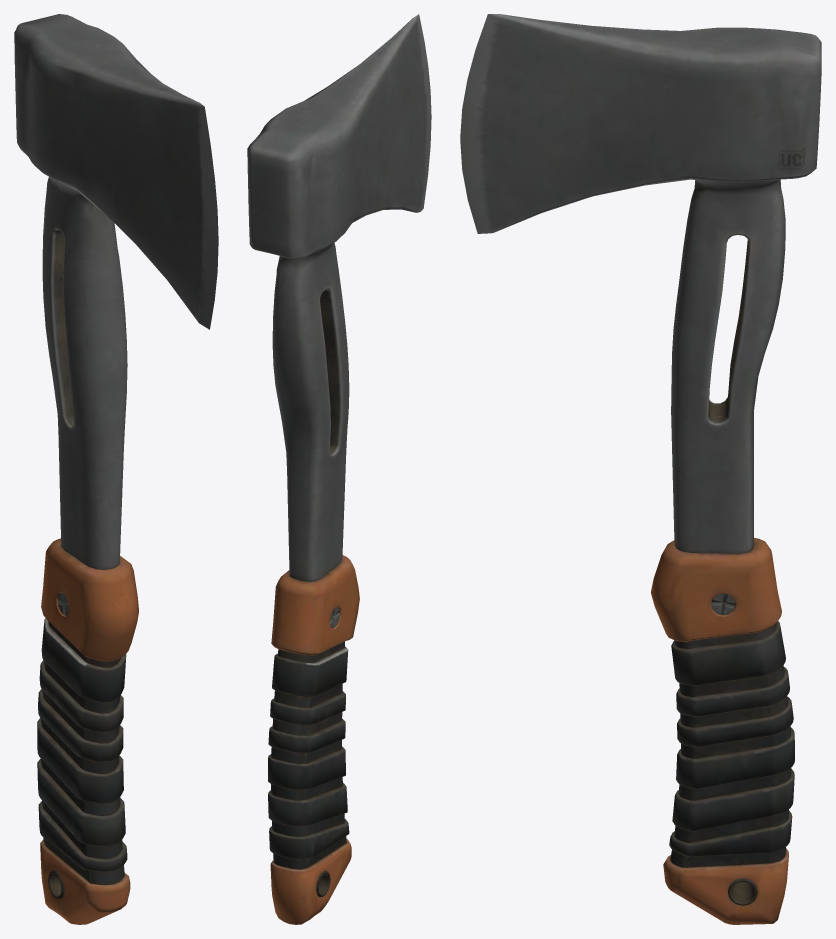
The model's file is hatchet.glb.
3 views of the same model, side by side, from view 1: azimuth 30°, elevation 25°; view 2: azimuth 150°, elevation 25°; view 3: azimuth 270°, elevation 25° (orthographic). The views are drawn at different scales.
Visible parts, largest first — view 1: hatchet; view 2: hatchet; view 3: hatchet.
Boxes of the visible parts, left/top/right/bottom form: hatchet: left=14, top=14, right=218, bottom=924; hatchet: left=247, top=14, right=431, bottom=924; hatchet: left=460, top=14, right=821, bottom=924.
Size of the model in its own units: 0.026 by 0.2887 by 0.1043.
Materials: 1 (1 with a texture image).
